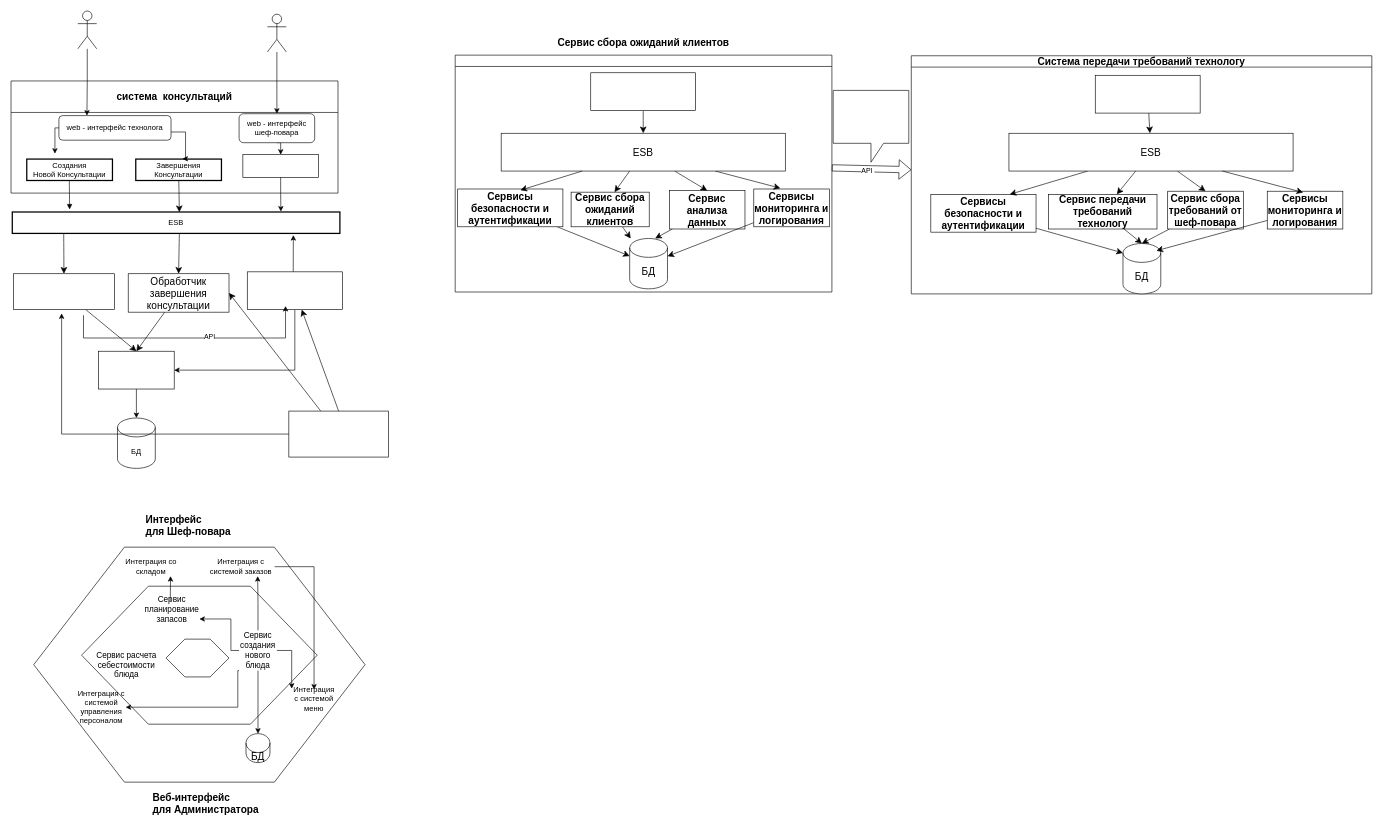
Some shapes in this 1383 by 836 pixel diagram are drawn without their labels. The shapes that lost their labels are listed below. From the top down, each one's centre as x and y in pixels, then its label:
At pixel 87 29: "технолог".
At pixel 276 33: "шеф-повар".
At pixel 643 91: "Интерфейс администратора".
At pixel 1147 94: "Интерфейс технолога".
At pixel 871 126: "после завершения анализа данных, требования передаются технологу".
At pixel 280 165: "Консультация".
At pixel 63 291: "Обработчик Новой консультации".
At pixel 294 290: "Сервис управления консультациями".
At pixel 136 370: "Event Store".
At pixel 338 433: "Мониторинг и логирование".
At pixel 197 658: "Продукты".
